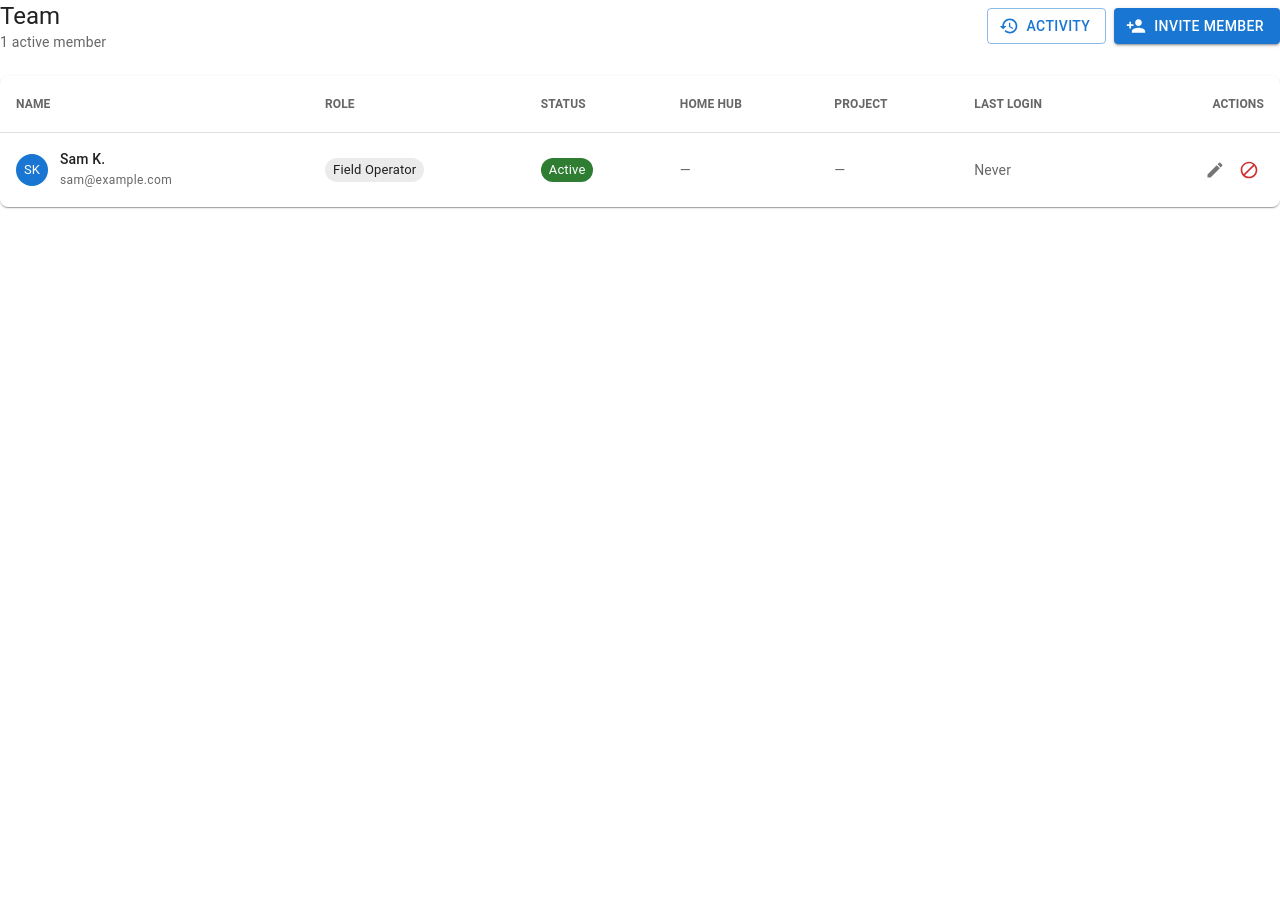
Test case: UXP-6 (6c): Manage account on EntityFormDialog › a bad reset PIN is an inline error on the PIN field, no request
expect the text "Sam K." is shown: met, box x1=60 y1=151 x2=105 y2=167
Click the button named "Manage account" at (1215, 170), box x1=1200 y1=155 x2=1230 y2=185
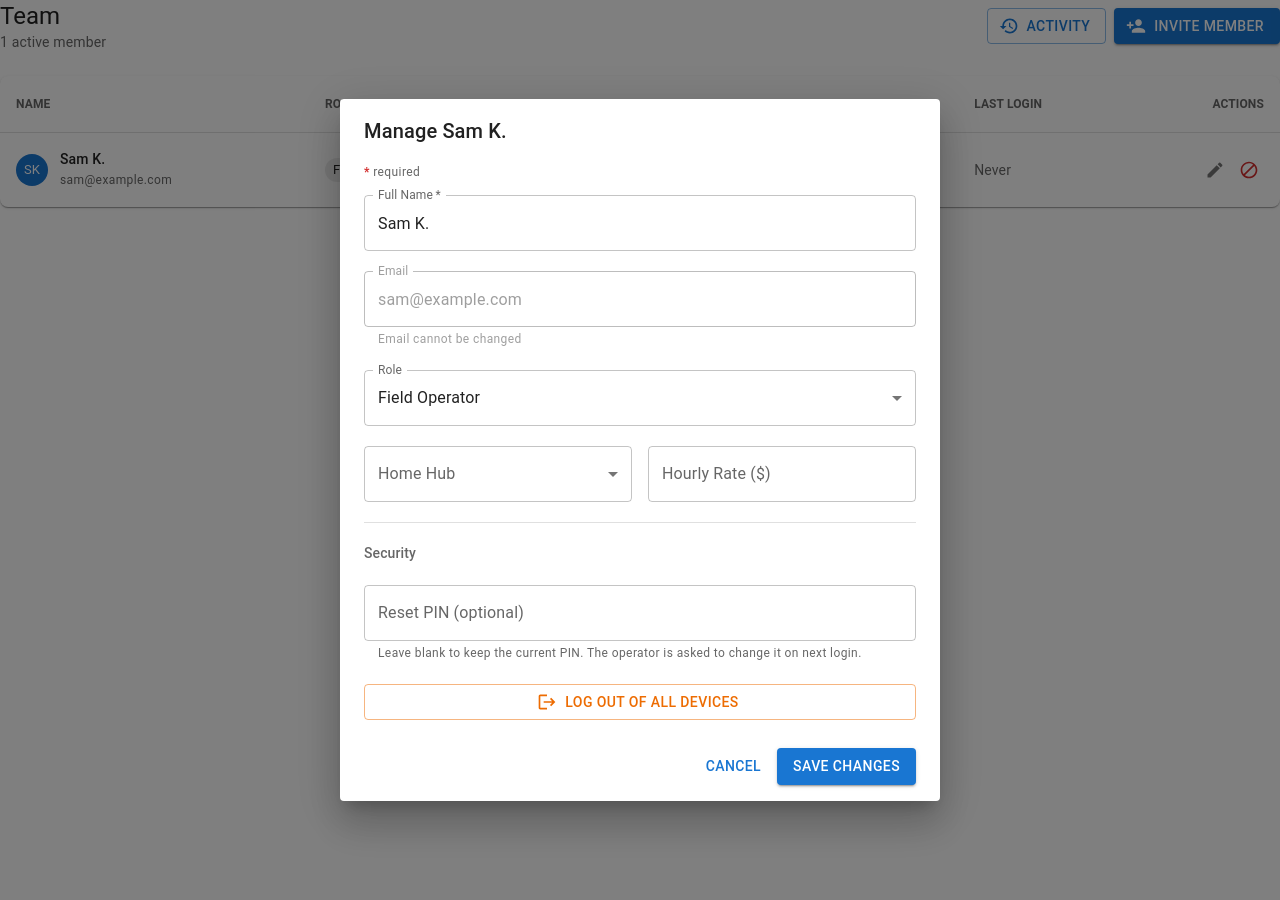
Type "123" into the field labelled "Reset PIN (optional)" at (640, 613), box x1=364 y1=585 x2=916 y2=641
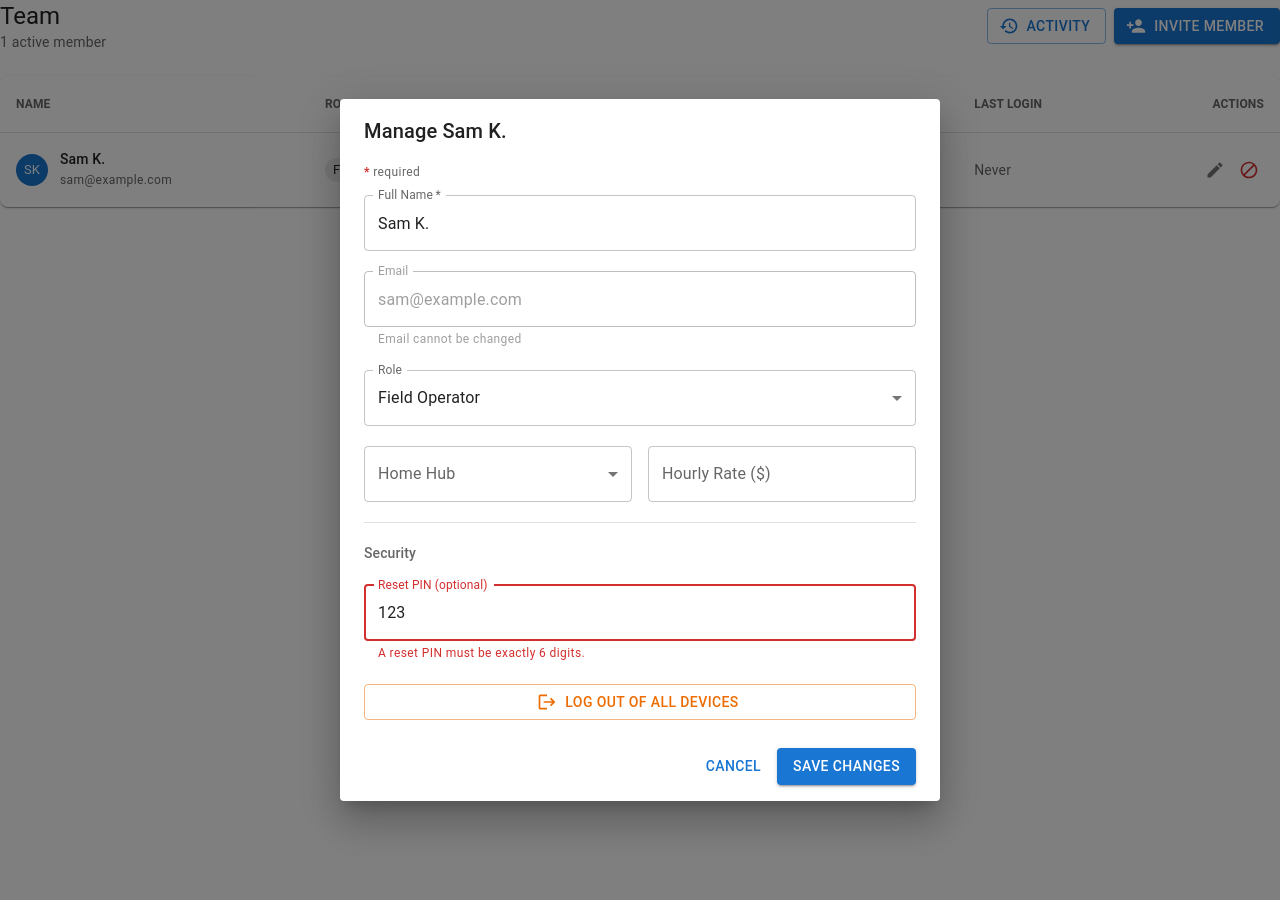
expect the text "A reset PIN must be exactly 6 digits." is shown: met, box x1=378 y1=646 x2=585 y2=660
